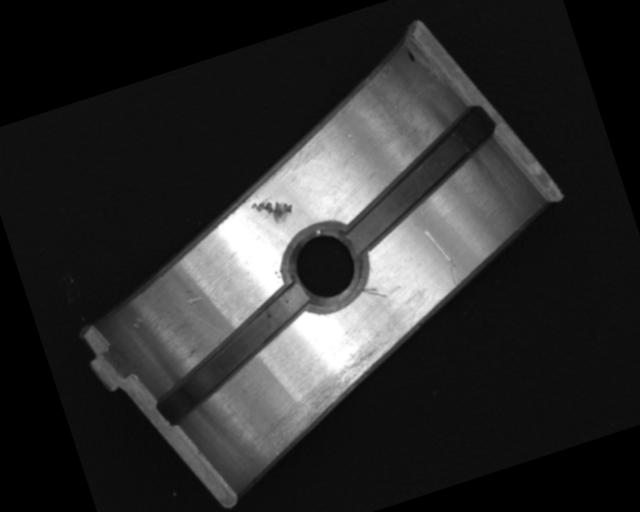blot: (404, 46, 416, 64)
bruise: (249, 192, 296, 231), (184, 292, 209, 308)
gap: (324, 106, 517, 254), (134, 285, 329, 427)
hole: (275, 212, 378, 320)
nick: (411, 215, 462, 296), (360, 282, 387, 304)
scratch: (244, 322, 430, 459)
